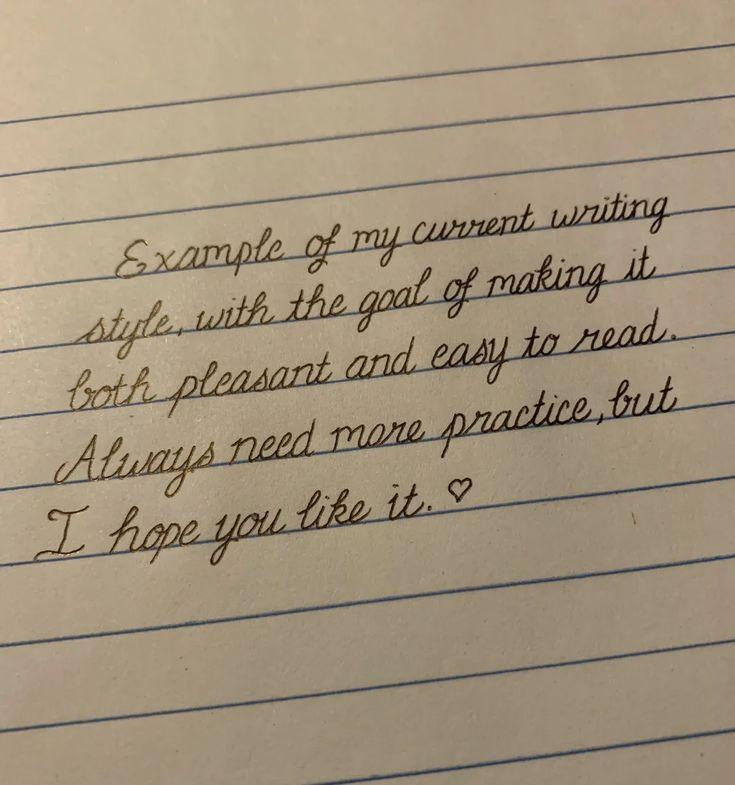text: (50, 371, 681, 503), (62, 302, 679, 421), (70, 240, 660, 362), (110, 188, 674, 284), (30, 473, 477, 571)
